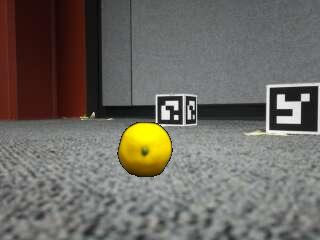lemon: (119, 124, 172, 177)
